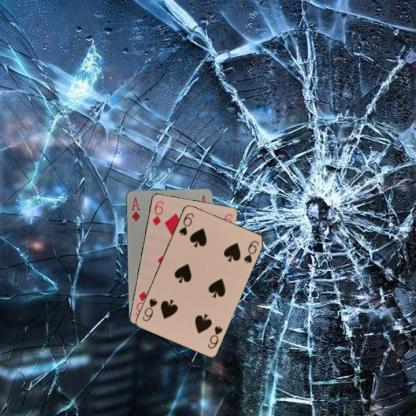6d: (150, 198, 164, 227)
6s: (177, 210, 196, 237), (205, 323, 224, 350)
Ad: (128, 194, 141, 223)
